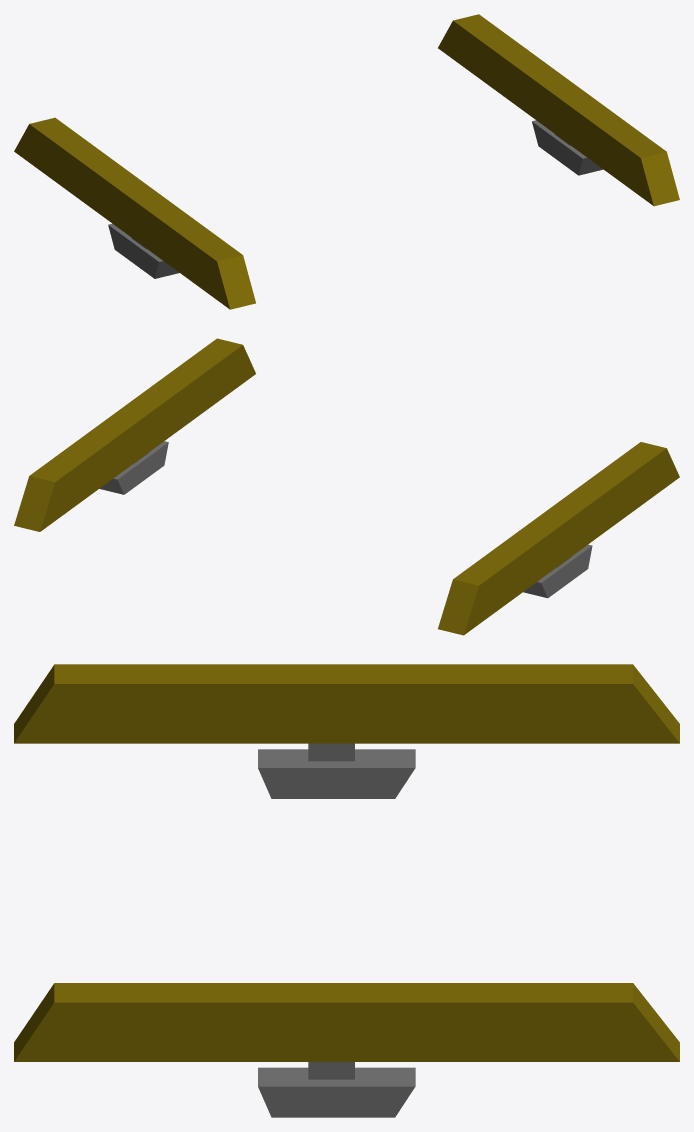
The model's file is shoegear.dae.
3 renders of one model, top to bottom at view 1: azimuth 30°, elevation 25°; view 2: azimuth 150°, elevation 25°; view 3: azimuth 270°, elevation 25°, orthographic. The views are drawn at different scales.
Visible parts, largest first — view 1: Cube_046, Cube_049, Cube_062_002, Cube_062_005; view 2: Cube_046, Cube_049, Cube_062_002, Cube_062_005; view 3: Cube_046, Cube_049, Cube_062_005, Cube_062_002, Cube_063_002, Cube_063_005.
Boxes of the visible parts, x1,y1,x2,y2 form: Cube_046: [14, 117, 255, 309]; Cube_049: [438, 14, 679, 206]; Cube_062_002: [108, 223, 179, 278]; Cube_062_005: [532, 120, 603, 175]; Cube_046: [438, 442, 679, 635]; Cube_049: [14, 338, 255, 531]; Cube_062_002: [523, 544, 592, 598]; Cube_062_005: [99, 441, 168, 494]; Cube_046: [14, 664, 679, 743]; Cube_049: [14, 983, 679, 1061]; Cube_062_005: [258, 1067, 415, 1117]; Cube_062_002: [258, 749, 415, 798]; Cube_063_002: [308, 743, 354, 761]; Cube_063_005: [308, 1062, 354, 1079].
Bounding box in the file's own units: 1.72 × 1.41 × 0.2564.
